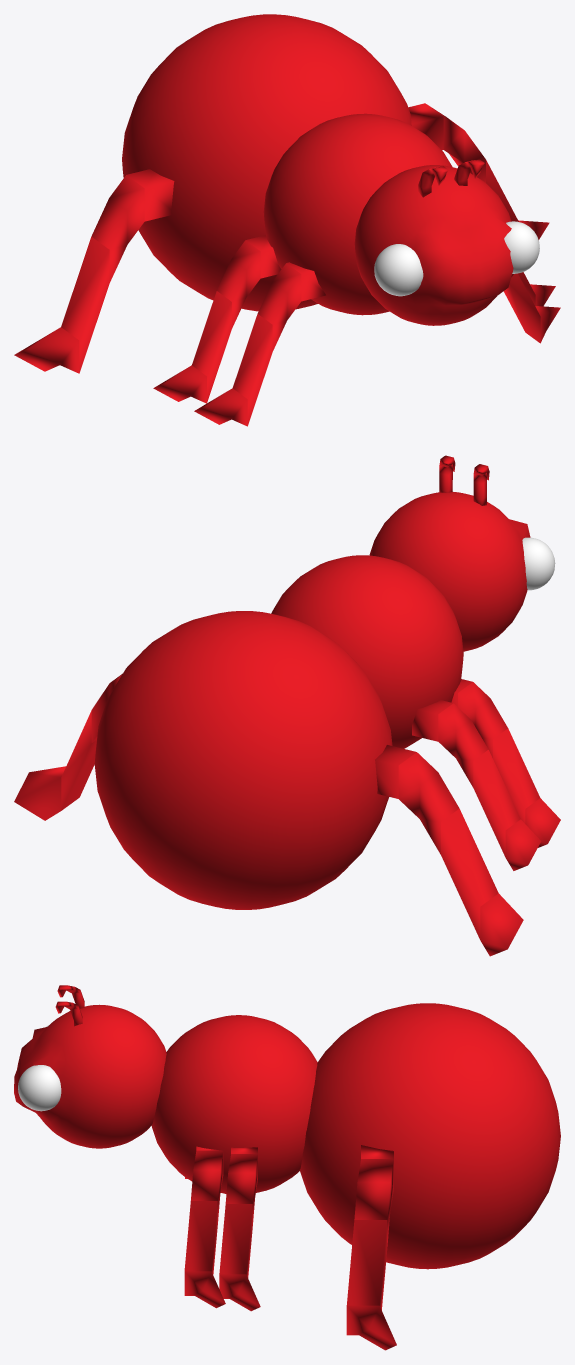
The model's file is base_fourmi_rouge_ouvriere.dae.
3 renders of one model, top to bottom at view 1: azimuth 30°, elevation 25°; view 2: azimuth 150°, elevation 25°; view 3: azimuth 270°, elevation 25°, orthographic. The views are drawn at different scales.
Visible parts, largest first — view 1: Cube_003; view 2: Cube_003; view 3: Cube_003.
Boxes of the visible parts, x1,y1,x2,y2 form: Cube_003: (14, 14, 560, 426); Cube_003: (14, 455, 560, 956); Cube_003: (14, 985, 560, 1350).
Bounding box in the file's own units: 2.99 × 3.13 × 1.67.
